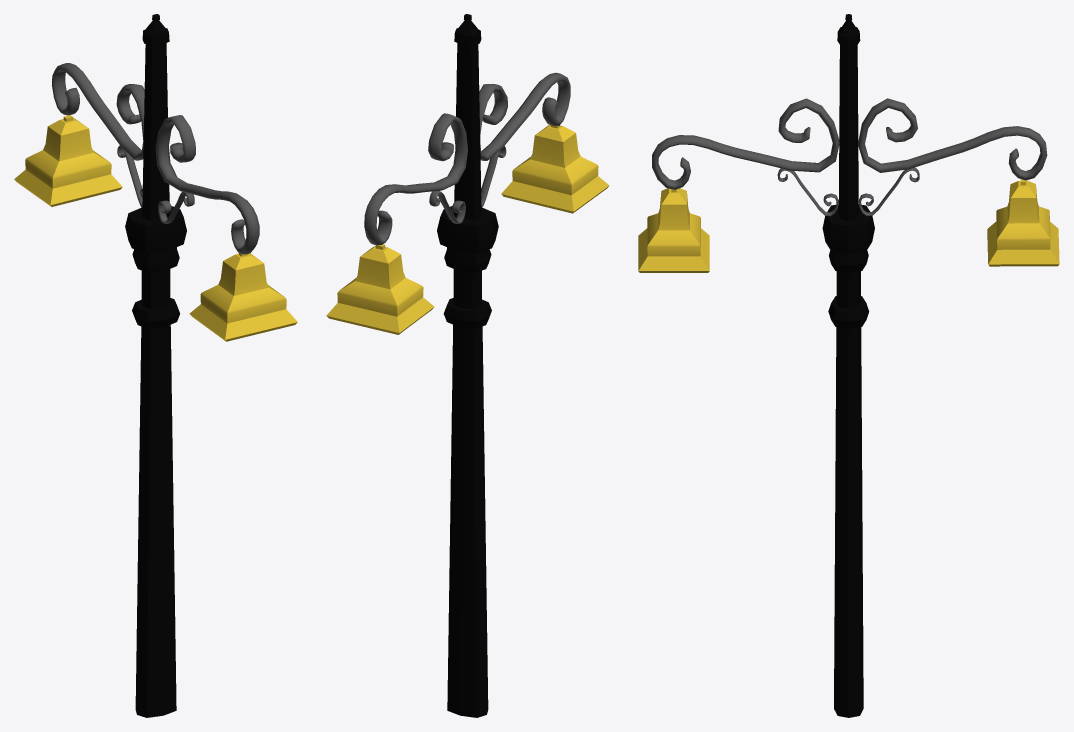
File: farola1.fbx
3 renders of one model, left to right at view 1: azimuth 30°, elevation 25°; view 2: azimuth 150°, elevation 25°; view 3: azimuth 270°, elevation 25°, orthographic.
Parts seen in each view (by area): view 1: Cube.001, Cube.002, Cube.003, BézierCurve.001, BézierCurve.004, BézierCurve.003, BézierCurve.002; view 2: Cube.001, Cube.002, Cube.003, BézierCurve.004, BézierCurve.001, BézierCurve.002, BézierCurve.003; view 3: Cube.001, Cube.002, Cube.003, BézierCurve.001, BézierCurve.004.
Boxes of the visible parts, x1=… form: Cube.001: x1=125, y1=14, x2=186, y2=717; Cube.002: x1=14, y1=115, x2=122, y2=206; Cube.003: x1=189, y1=253, x2=297, y2=341; BézierCurve.001: x1=155, y1=115, x2=259, y2=254; BézierCurve.004: x1=52, y1=63, x2=144, y2=160; BézierCurve.003: x1=158, y1=192, x2=194, y2=224; BézierCurve.002: x1=117, y1=145, x2=142, y2=207; Cube.001: x1=437, y1=14, x2=498, y2=717; Cube.002: x1=326, y1=244, x2=434, y2=334; Cube.003: x1=501, y1=125, x2=609, y2=213; BézierCurve.004: x1=364, y1=113, x2=467, y2=245; BézierCurve.001: x1=479, y1=72, x2=570, y2=160; BézierCurve.002: x1=429, y1=191, x2=465, y2=223; BézierCurve.003: x1=481, y1=146, x2=506, y2=207; Cube.001: x1=822, y1=14, x2=874, y2=717; Cube.002: x1=987, y1=179, x2=1059, y2=266; Cube.003: x1=638, y1=188, x2=709, y2=272; BézierCurve.001: x1=652, y1=98, x2=839, y2=189; BézierCurve.004: x1=858, y1=98, x2=1047, y2=180.
Size of the model in its own units: 83.95 by 758 by 417.
